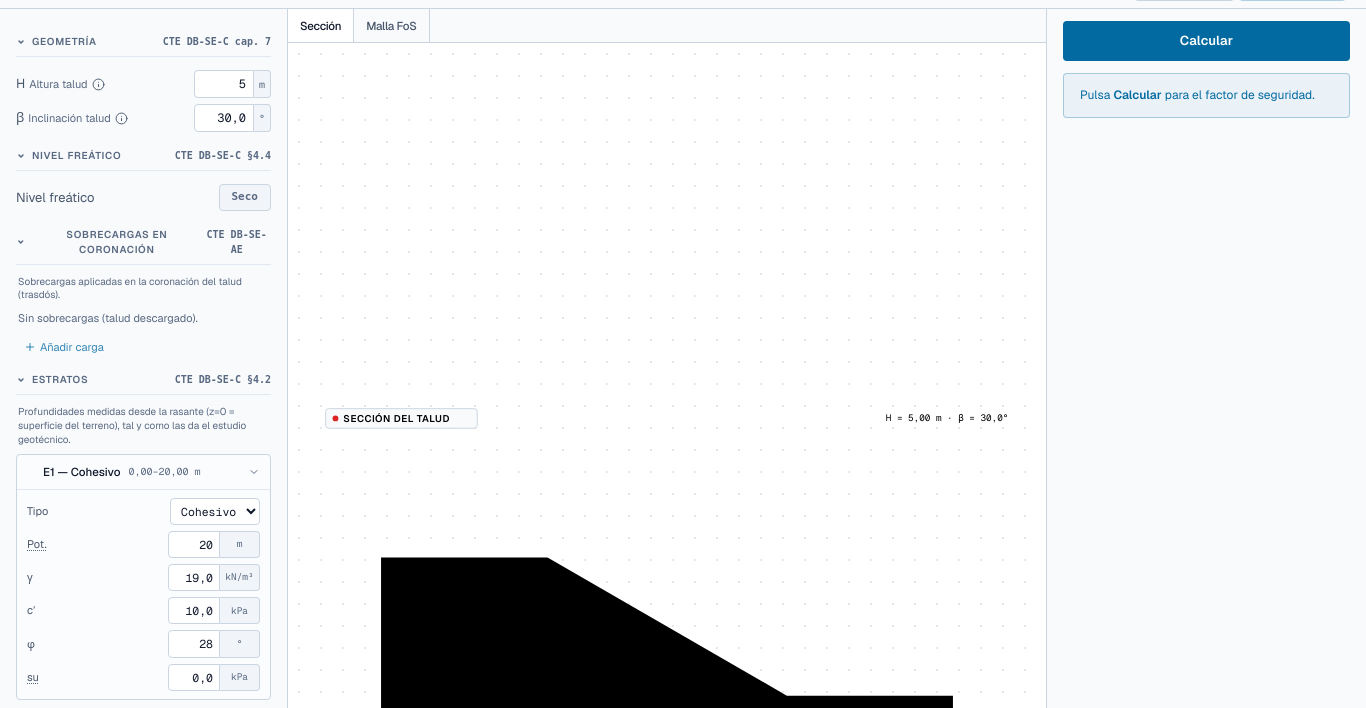
it: SlopeStabilityModule — smoke de integración (T4.3, solver mockeado) › 2 · conmutador Sección/Diagramas monta SlopeSearchSVG (malla) en pantalla
Click the button "Malla FoS": (392, 26) [354,9,430,42]
(page scrolled)
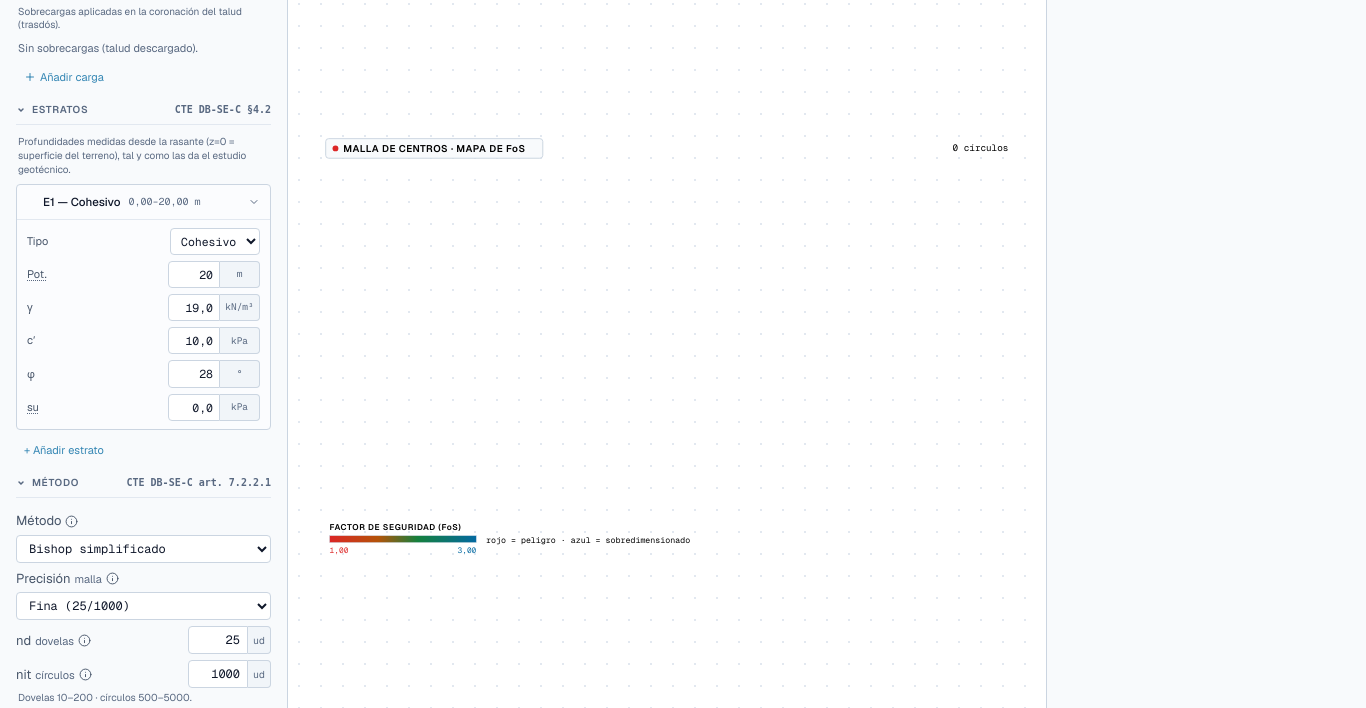
Expected: the picture named "Estabilidad de talud — malla de centros / mapa de FoS" is shown, [312,120,1022,570]
